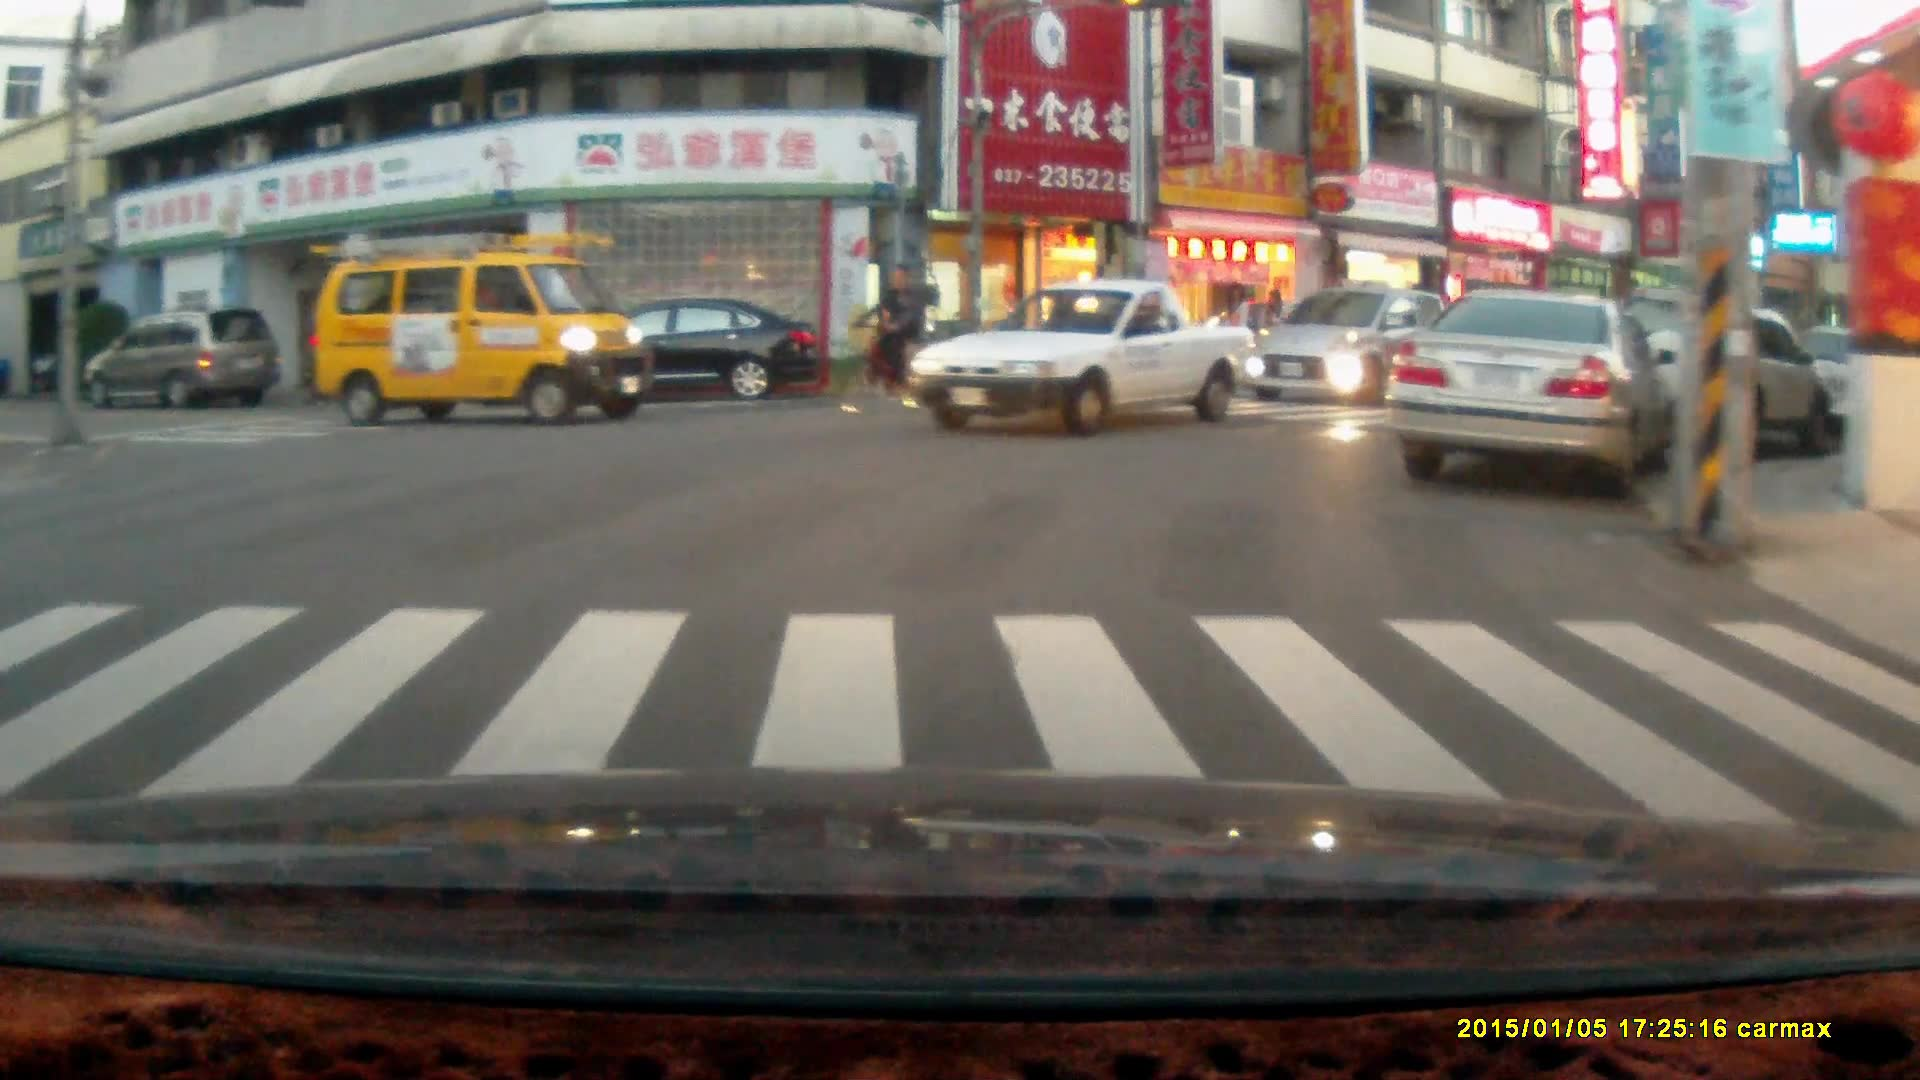pedestrian: (1218, 280, 1250, 373), (1260, 285, 1287, 379)
rider: (831, 258, 944, 412)
vehicle: (304, 228, 659, 428), (907, 278, 1264, 437), (1389, 284, 1650, 500), (1576, 290, 1840, 465), (542, 291, 820, 405), (1245, 280, 1453, 406), (79, 301, 284, 413)
